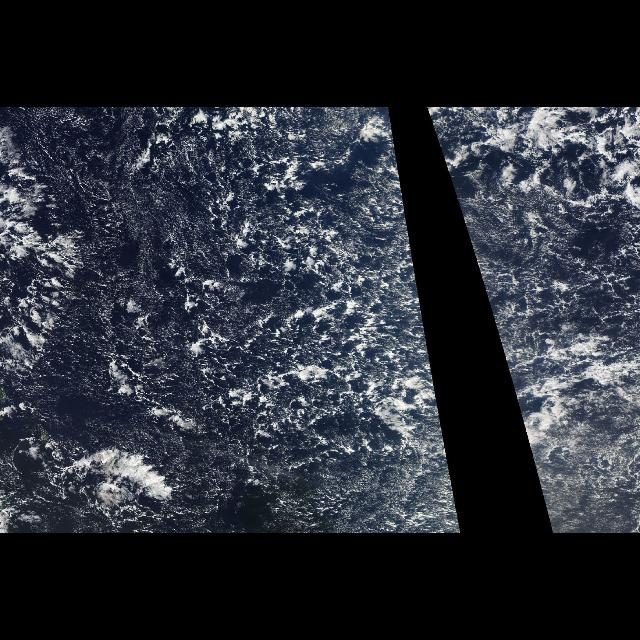Gravel: (125, 110, 439, 492), (504, 195, 638, 453), (427, 110, 439, 148)
Sugar: (77, 132, 226, 296)
